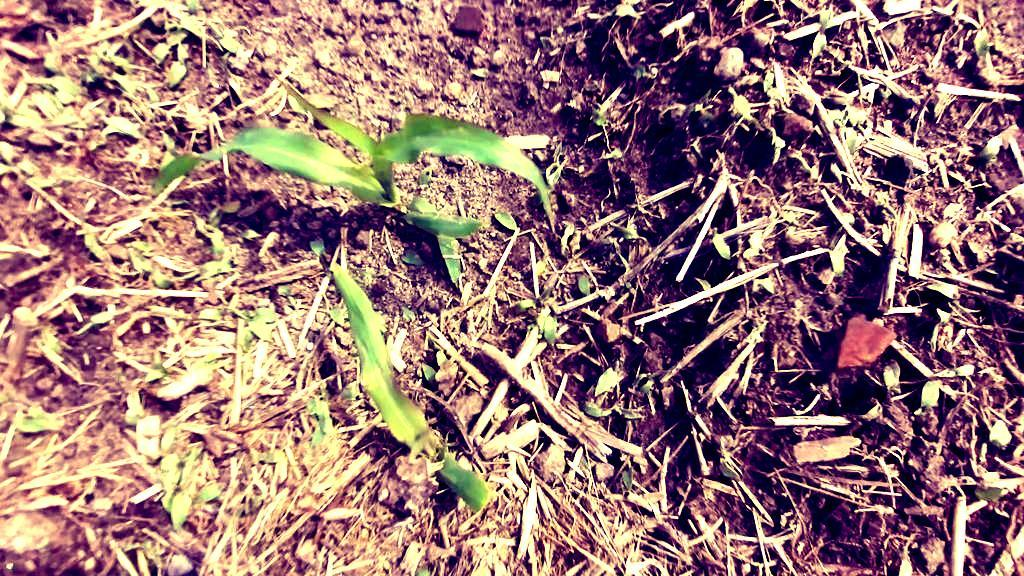BroWeed: (69, 220, 137, 286), (163, 446, 209, 536), (850, 392, 915, 445), (158, 8, 228, 51), (118, 246, 179, 294), (83, 52, 142, 98), (188, 205, 234, 263), (969, 417, 1018, 471), (173, 245, 236, 287), (37, 87, 89, 137), (924, 275, 985, 317), (719, 85, 771, 133), (668, 86, 716, 133), (157, 40, 198, 92), (118, 531, 169, 569), (32, 316, 74, 362), (967, 132, 1005, 182), (34, 29, 69, 83), (154, 440, 207, 475), (148, 22, 191, 64), (200, 16, 246, 55), (92, 38, 135, 79), (508, 281, 555, 318), (586, 358, 627, 400), (777, 144, 823, 180), (540, 139, 573, 189), (202, 192, 243, 232), (919, 307, 954, 353), (806, 7, 831, 70), (189, 473, 229, 511), (25, 72, 88, 96), (912, 376, 945, 421), (156, 461, 183, 514), (71, 305, 116, 336), (578, 400, 643, 420), (630, 359, 666, 395), (100, 110, 144, 139), (31, 164, 80, 190), (245, 311, 279, 347), (313, 381, 335, 435), (85, 122, 126, 150), (705, 225, 734, 263), (37, 79, 75, 107), (137, 349, 168, 383), (607, 221, 649, 246), (0, 100, 41, 125), (871, 190, 899, 226), (11, 415, 64, 434), (712, 455, 742, 488), (967, 28, 996, 62), (826, 225, 844, 278), (275, 279, 314, 303), (191, 347, 224, 375), (157, 417, 181, 455), (765, 85, 792, 118), (122, 390, 145, 428), (490, 206, 522, 233), (192, 306, 249, 321), (418, 358, 443, 392), (76, 62, 105, 90), (882, 358, 901, 399), (239, 304, 277, 324), (596, 138, 624, 165), (424, 334, 448, 365), (778, 208, 809, 231), (534, 239, 553, 276), (159, 131, 177, 170), (0, 140, 25, 168), (250, 445, 285, 465), (932, 364, 975, 380), (767, 135, 788, 166), (525, 304, 550, 330), (240, 489, 263, 517), (589, 97, 611, 126), (15, 156, 41, 180), (983, 263, 1007, 289), (558, 220, 574, 259), (601, 3, 641, 18), (853, 111, 871, 144), (610, 238, 629, 269), (235, 326, 256, 354), (626, 60, 650, 84), (591, 236, 615, 260), (162, 192, 191, 210), (543, 305, 556, 345), (826, 159, 845, 186), (415, 164, 434, 191), (989, 499, 1011, 522), (308, 235, 330, 258), (751, 276, 777, 295), (973, 486, 1008, 500), (338, 380, 360, 402), (310, 420, 326, 450), (285, 92, 304, 117), (141, 82, 161, 105), (840, 105, 860, 128), (691, 138, 710, 162), (327, 304, 345, 328), (575, 270, 591, 296), (358, 265, 384, 281), (124, 238, 153, 252), (401, 248, 426, 264), (845, 127, 859, 155), (827, 107, 844, 129), (697, 112, 717, 129), (762, 68, 775, 94), (239, 226, 263, 240), (569, 228, 581, 255), (694, 273, 711, 292), (26, 405, 52, 417), (856, 72, 866, 103), (876, 87, 893, 105), (400, 304, 417, 322), (621, 466, 633, 491), (217, 50, 230, 72), (747, 230, 761, 250), (582, 78, 600, 93), (79, 52, 101, 64), (469, 66, 489, 79), (623, 280, 639, 296), (345, 344, 361, 360), (548, 192, 560, 213), (692, 297, 713, 309), (742, 247, 764, 258), (568, 369, 586, 382), (566, 163, 584, 176), (305, 398, 317, 417), (0, 162, 16, 175), (766, 125, 776, 145), (529, 192, 542, 207), (540, 36, 554, 49), (286, 54, 299, 68), (681, 315, 697, 326), (378, 318, 388, 334), (524, 321, 537, 331), (414, 568, 430, 576), (621, 0, 639, 6), (579, 453, 588, 465), (0, 392, 8, 404), (138, 390, 144, 405), (538, 329, 544, 340), (342, 312, 349, 321)
Maize: (147, 48, 577, 304), (297, 257, 496, 528)
